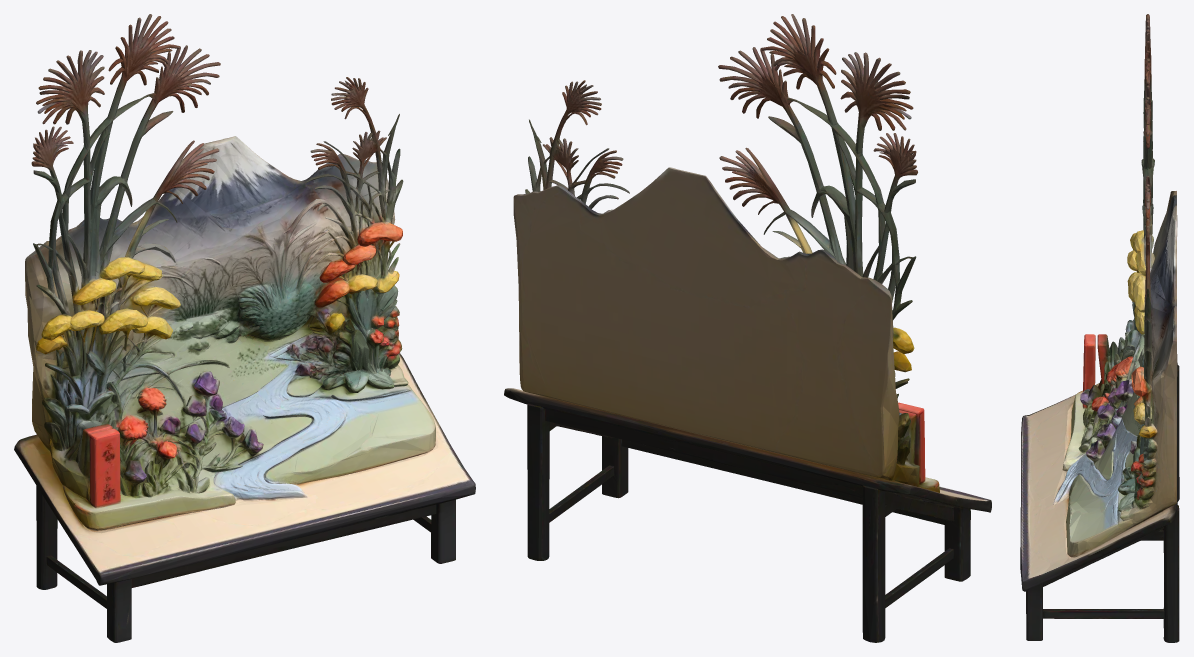
File: gallery-demo-light.glb
3 views of the same model, side by side, from view 1: azimuth 30°, elevation 25°; view 2: azimuth 150°, elevation 25°; view 3: azimuth 270°, elevation 25° (orthographic). The views are drawn at different scales.
Parts seen in each view (by area): view 1: Geometry; view 2: Geometry; view 3: Geometry.
Part boxes in pixels (box(x1,y1,x2,y2)): Geometry: box(14, 14, 475, 642); Geometry: box(504, 14, 991, 642); Geometry: box(1020, 14, 1179, 642).
Bounding box in the file's own units: 0.7136 × 0.9926 × 0.2832.
1 material, 1 textured.
